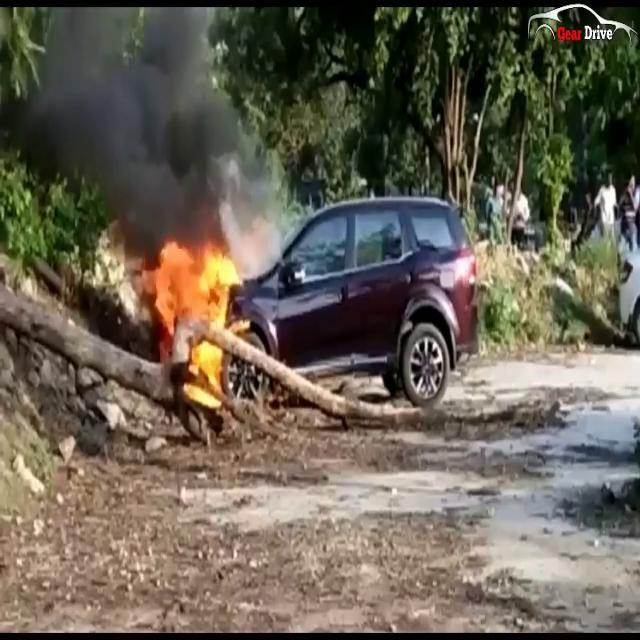Fire: (142, 233, 252, 384)
Smoke: (12, 2, 268, 248)
